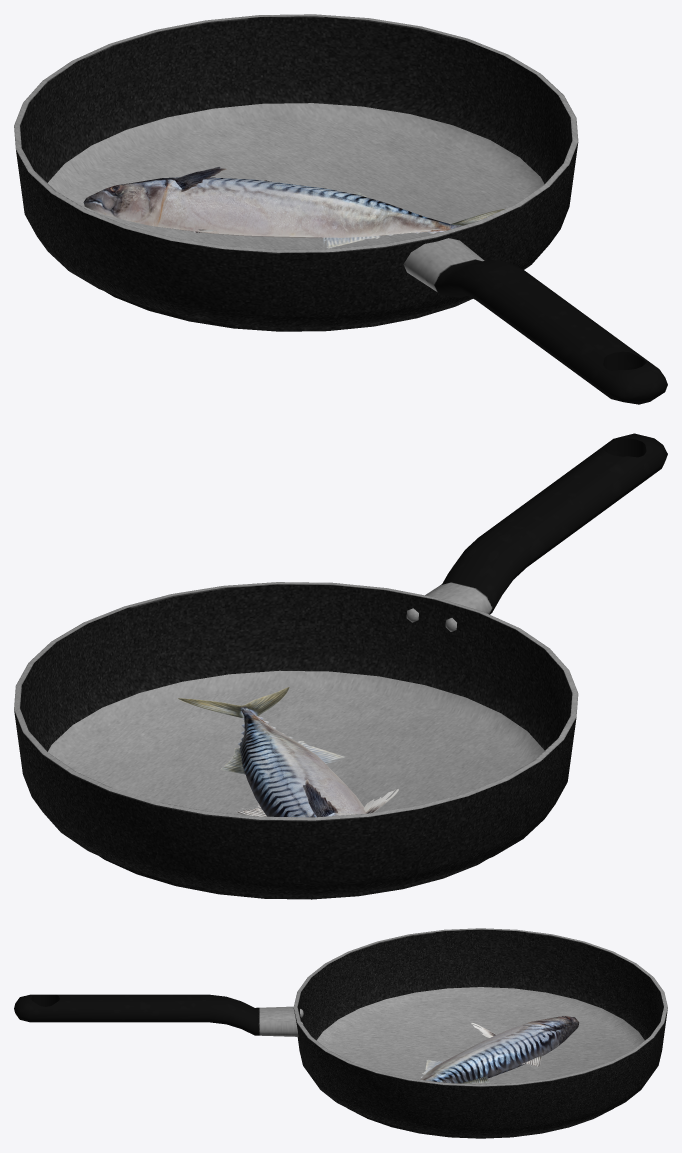
Rendered from Mackerel.gltf.
3 renders of one model, top to bottom at view 1: azimuth 30°, elevation 25°; view 2: azimuth 150°, elevation 25°; view 3: azimuth 270°, elevation 25°, orthographic. The views are drawn at different scales.
Visible parts, largest first — view 1: Fry_pan1, Mackerel.001; view 2: Fry_pan1, Mackerel.001; view 3: Fry_pan1, Mackerel.001.
Part boxes in pixels (x1,y1,x2,y2): Fry_pan1: [14, 14, 667, 404]; Mackerel.001: [83, 166, 506, 248]; Fry_pan1: [14, 433, 667, 899]; Mackerel.001: [177, 687, 398, 817]; Fry_pan1: [14, 928, 667, 1138]; Mackerel.001: [420, 1016, 579, 1083].
Bounding box in the file's own units: 0.28 × 0.0748 × 0.4891.
Materials: 2 (2 with a texture image).
